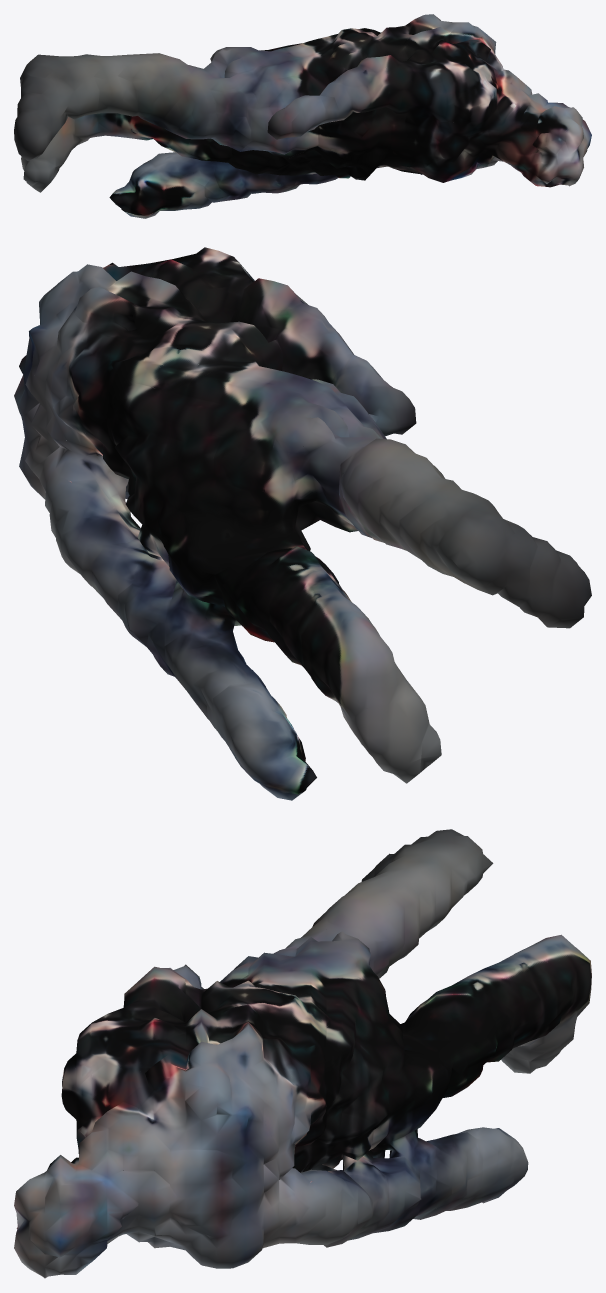
3 renders of one model, top to bottom at view 1: azimuth 30°, elevation 25°; view 2: azimuth 150°, elevation 25°; view 3: azimuth 270°, elevation 25°, orthographic. The views are drawn at different scales.
Bounding box in the file's own units: 0.8965 × 0.4019 × 0.6762.
1 material, 1 textured.
